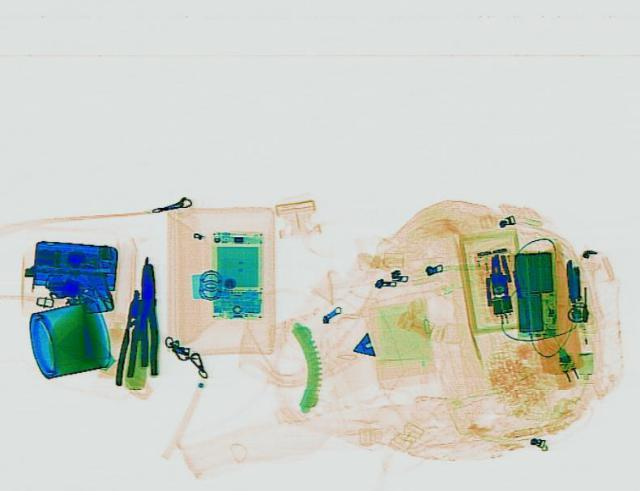Pliers: (138, 263, 158, 375)
